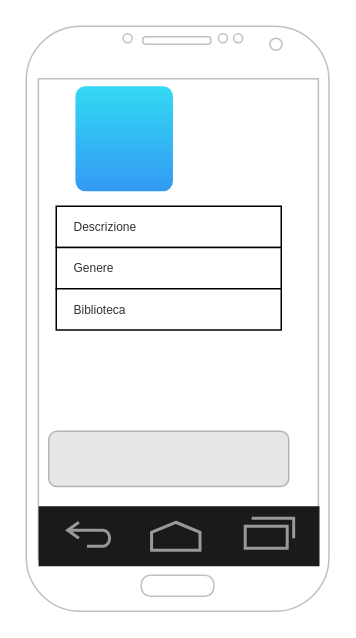
The diagram is 356 pixels wide and 638 high, and some of its shapes have lost their labels. The shapes that lost their labels are listed below. From the top down, each one's box as (x1, y1, x2, y2) in pixels, then its label:
(74, 85, 173, 191): Copertina
(47, 430, 289, 487): conferma prenotazione
